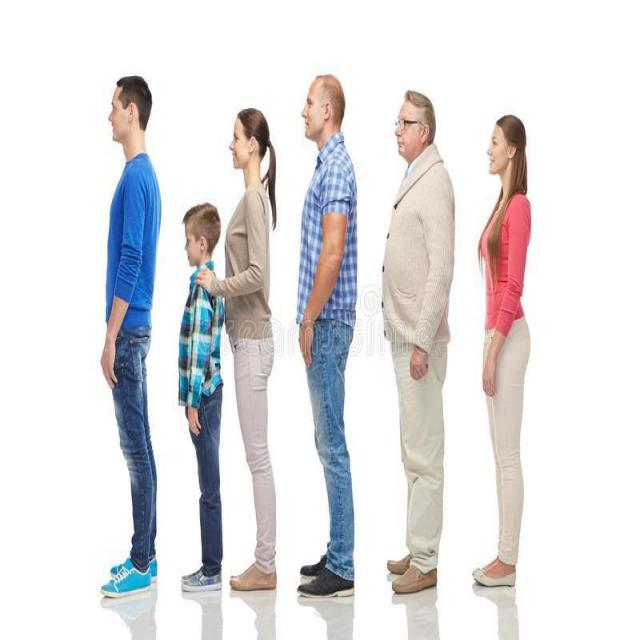person: (372, 41, 462, 619), (90, 52, 170, 624), (216, 82, 293, 627), (472, 51, 546, 607), (296, 65, 366, 613), (180, 176, 229, 604)
